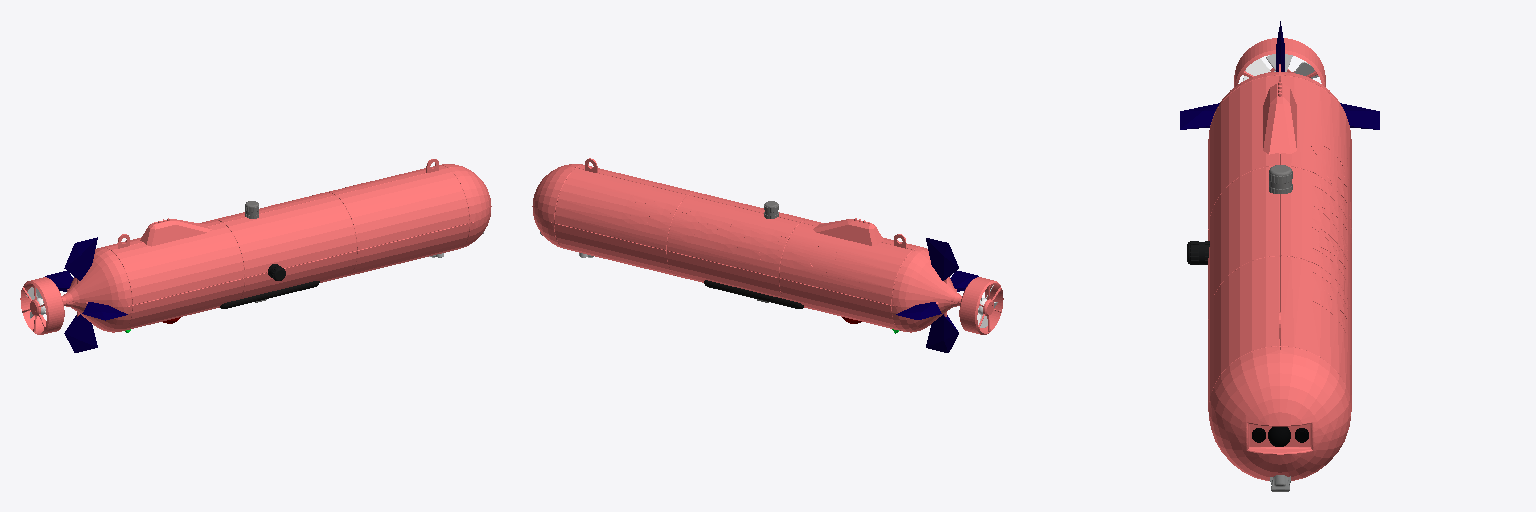
URDF robot description (remaro):
<?xml version="1.0"?>
<!-- created with Phobos 1.0.1 "Capricious Choutengan" -->
<robot name="remaro">
    <mujoco>
        <compiler meshdir="[local-path]/mujoco_ws/src/remaro_package/model/remaro/meshes" strippath="false" balanceinertia="true" discardvisual="true"/>
    </mujoco>
    <link name="link_base">
        <inertial>
            <origin xyz="0 0 0" rpy="0 0 0"/>
            <mass value="0.961"/>
            <inertia ixx="0.02757" ixy="0" ixz="0" iyy="0.57467" iyz="0" izz="0.57385"/>
        </inertial>
        <visual name="base">
            <origin xyz="0 0 0" rpy="0 0 0"/>
            <geometry>
                <mesh filename="package://remaro_package/meshes/stl/base.stl" scale="1.0 1.0 1.0"/>
            </geometry>
            <material name="body_led1"/>
        </visual>
        <collision name="base">
            <origin xyz="-0.00055 1e-05 -5e-05" rpy="0 0 0"/>
            <geometry>
                <mesh filename="base.000.stl" scale="1.0 1.0 1.0"/>
            </geometry>
        </collision>
    </link>
    <link name="link_cam_bottom">
        <inertial>
            <origin xyz="0 0 0" rpy="0 0 0"/>
            <mass value="0.961"/>
            <inertia ixx="0.00059" ixy="0" ixz="0" iyy="0.00059" iyz="0" izz="0.00068"/>
        </inertial>
        <visual name="cam_bottom">
            <origin xyz="0 0 0" rpy="0 0 0"/>
            <geometry>
                <mesh filename="package://remaro_package/meshes/stl/cam_bottom.stl" scale="1.0 1.0 1.0"/>
            </geometry>
            <material name="camera_accent"/>
        </visual>
        <collision name="cam_bottom">
            <origin xyz="0 0 -0.0007" rpy="0 0 0"/>
            <geometry>
                <mesh filename="cam_bottom.000.stl" scale="1.0 1.0 1.0"/>
            </geometry>
        </collision>
    </link>
    <link name="link_cam_front">
        <inertial>
            <origin xyz="0 0 0" rpy="0 0 0"/>
            <mass value="0.961"/>
            <inertia ixx="0.00068" ixy="0" ixz="0" iyy="0.00059" iyz="0" izz="0.00059"/>
        </inertial>
        <visual name="cam_front">
            <origin xyz="0 0 0" rpy="0 0 0"/>
            <geometry>
                <mesh filename="package://remaro_package/meshes/stl/cam_front.stl" scale="1.0 1.0 1.0"/>
            </geometry>
            <material name="camera_base"/>
        </visual>
        <collision name="cam_front">
            <origin xyz="0.00064 0 0" rpy="0 0 0"/>
            <geometry>
                <mesh filename="cam_front.000.stl" scale="1.0 1.0 1.0"/>
            </geometry>
        </collision>
    </link>
    <link name="link_dvl">
        <inertial>
            <origin xyz="0 0 0" rpy="0 0 0"/>
            <mass value="0.961"/>
            <inertia ixx="0.00127" ixy="0" ixz="0" iyy="0.00127" iyz="0" izz="0.00205"/>
        </inertial>
        <visual name="dvl">
            <origin xyz="0 0 0" rpy="0 0 0"/>
            <geometry>
                <mesh filename="package://remaro_package/meshes/stl/dvl.stl" scale="1.0 1.0 1.0"/>
            </geometry>
            <material name="dvl_accent"/>
        </visual>
        <collision name="dvl">
            <origin xyz="2e-05 0 -0.00103" rpy="0 0 0"/>
            <geometry>
                <mesh filename="dvl.000.stl" scale="1.0 1.0 1.0"/>
            </geometry>
        </collision>
    </link>
    <link name="link_fin_bar">
        <inertial>
            <origin xyz="0 0 0" rpy="0 0 0"/>
            <mass value="0.961"/>
            <inertia ixx="2e-05" ixy="0" ixz="0" iyy="2e-05" iyz="0" izz="0.00184"/>
        </inertial>
        <visual name="fin_bar">
            <origin xyz="0 0 0" rpy="0 0 0"/>
            <geometry>
                <mesh filename="package://remaro_package/meshes/stl/fin_bar.stl" scale="1.0 1.0 1.0"/>
            </geometry>
            <material name="body_bottom"/>
        </visual>
    </link>
    <link name="link_fin_pair_h">
        <inertial>
            <origin xyz="0 0 0" rpy="0 0 0"/>
            <mass value="0.961"/>
            <inertia ixx="0.69678" ixy="0" ixz="0" iyy="0.02607" iyz="0" izz="0.72155"/>
        </inertial>
        <visual name="fin_pair_h">
            <origin xyz="0 0 0" rpy="0 0 0"/>
            <geometry>
                <mesh filename="package://remaro_package/meshes/stl/fin_pair_h.stl" scale="1.0 1.0 1.0"/>
            </geometry>
            <material name="fin"/>
        </visual>
        <collision name="fin_pair_h">
            <origin xyz="-0.00073 0 0" rpy="0 0 0"/>
            <geometry>
                <mesh filename="fin_pair_h.000.stl" scale="1.0 1.0 1.0"/>
            </geometry>
        </collision>
    </link>
    <link name="link_fin_pair_v">
        <inertial>
            <origin xyz="0 0 0" rpy="0 0 0"/>
            <mass value="0.961"/>
            <inertia ixx="0.86184" ixy="0" ixz="0" iyy="0.89248" iyz="0" izz="0.03224"/>
        </inertial>
        <visual name="fin_pair_v">
            <origin xyz="0 0 0" rpy="-1.5708 0 0"/>
            <geometry>
                <mesh filename="package://remaro_package/meshes/stl/fin_pair_v.stl" scale="1.0 1.0 1.0"/>
            </geometry>
            <material name="fin"/>
        </visual>
        <collision name="fin_pair_v">
            <origin xyz="-0.00077 0 0" rpy="-1.5708 0 0"/>
            <geometry>
                <mesh filename="fin_pair_v.000.stl" scale="1.0 1.0 1.0"/>
            </geometry>
        </collision>
    </link>
    <link name="link_fls">
        <inertial>
            <origin xyz="0 0 0" rpy="0 0 0"/>
            <mass value="0.961"/>
            <inertia ixx="0.00049" ixy="0" ixz="0" iyy="0.00048" iyz="0" izz="0.00051"/>
        </inertial>
        <visual name="fls">
            <origin xyz="0 0 0" rpy="0 0 0"/>
            <geometry>
                <mesh filename="package://remaro_package/meshes/stl/fls.stl" scale="1.0 1.0 1.0"/>
            </geometry>
            <material name="fls_accent"/>
        </visual>
        <collision name="fls">
            <origin xyz="6e-05 0 -0.00011" rpy="0 0 0"/>
            <geometry>
                <mesh filename="fls.000.stl" scale="1.0 1.0 1.0"/>
            </geometry>
        </collision>
    </link>
    <link name="link_laser">
        <inertial>
            <origin xyz="0 0 0" rpy="0 0 0"/>
            <mass value="0.961"/>
            <inertia ixx="0.00108" ixy="0" ixz="0" iyy="0.00022" iyz="0" izz="0.00105"/>
        </inertial>
        <visual name="laser">
            <origin xyz="0 0 0" rpy="0 0 0"/>
            <geometry>
                <mesh filename="package://remaro_package/meshes/stl/laser.stl" scale="1.0 1.0 1.0"/>
            </geometry>
            <material name="laser_accent"/>
        </visual>
        <collision name="laser">
            <origin xyz="0.00016 -6e-05 -0.00021" rpy="0 0 0"/>
            <geometry>
                <mesh filename="laser.000.stl" scale="1.0 1.0 1.0"/>
            </geometry>
        </collision>
    </link>
    <link name="link_light_pair_bottom">
        <inertial>
            <origin xyz="0 0 0" rpy="0 0 0"/>
            <mass value="0.961"/>
            <inertia ixx="0.00408" ixy="0" ixz="0" iyy="0.00026" iyz="0" izz="0.00404"/>
        </inertial>
        <visual name="light_pair_bottom">
            <origin xyz="0 0 0" rpy="0 0 0"/>
            <geometry>
                <mesh filename="package://remaro_package/meshes/stl/light_pair_bottom.stl" scale="1.0 1.0 1.0"/>
            </geometry>
            <material name="lights_accent"/>
        </visual>
        <collision name="light_pair_bottom">
            <origin xyz="0 0 -0.00014" rpy="0 0 0"/>
            <geometry>
                <mesh filename="light_pair_bottom.000.stl" scale="1.0 1.0 1.0"/>
            </geometry>
        </collision>
    </link>
    <link name="link_light_pair_front">
        <inertial>
            <origin xyz="0 0 0" rpy="0 0 0"/>
            <mass value="0.961"/>
            <inertia ixx="0.00404" ixy="0" ixz="0" iyy="0.00026" iyz="0" izz="0.00408"/>
        </inertial>
        <visual name="light_pair_front">
            <origin xyz="0 0 0" rpy="0 0 0"/>
            <geometry>
                <mesh filename="package://remaro_package/meshes/stl/light_pair_front.stl" scale="1.0 1.0 1.0"/>
            </geometry>
            <material name="lights_base"/>
        </visual>
        <collision name="light_pair_front">
            <origin xyz="0.00014 0 0" rpy="0 0 0"/>
            <geometry>
                <mesh filename="light_pair_front.000.stl" scale="1.0 1.0 1.0"/>
            </geometry>
        </collision>
    </link>
    <link name="link_mbes">
        <inertial>
            <origin xyz="0 0 0" rpy="0 0 0"/>
            <mass value="0.961"/>
            <inertia ixx="0.00121" ixy="0" ixz="0" iyy="0.00547" iyz="0" izz="0.00641"/>
        </inertial>
        <visual name="mbes">
            <origin xyz="0 0 0" rpy="0 0 0"/>
            <geometry>
                <mesh filename="package://remaro_package/meshes/stl/mbes.stl" scale="1.0 1.0 1.0"/>
            </geometry>
            <material name="mbes_accent"/>
        </visual>
        <collision name="mbes">
            <origin xyz="0.00073 0 0.00062" rpy="0 0 0"/>
            <geometry>
                <mesh filename="mbes.000.stl" scale="1.0 1.0 1.0"/>
            </geometry>
        </collision>
    </link>
    <link name="link_prop">
        <inertial>
            <origin xyz="0 0 0" rpy="0 0 0"/>
            <mass value="0.961"/>
            <inertia ixx="0.0036" ixy="0" ixz="0" iyy="0.0021" iyz="0" izz="0.0021"/>
        </inertial>
        <visual name="prop">
            <origin xyz="0 0 0" rpy="0 0 -1.5708"/>
            <geometry>
                <mesh filename="package://remaro_package/meshes/stl/prop.stl" scale="1.0 1.0 1.0"/>
            </geometry>
            <material name="prop"/>
        </visual>
        <collision name="prop">
            <origin xyz="0 -0.00054 0" rpy="0 0 -1.5708"/>
            <geometry>
                <mesh filename="prop.000.stl" scale="1.0 1.0 1.0"/>
            </geometry>
        </collision>
    </link>
    <link name="link_scanner_side">
        <inertial>
            <origin xyz="0 0 0" rpy="0 0 0"/>
            <mass value="0.961"/>
            <inertia ixx="0.00134" ixy="0" ixz="0" iyy="0.0008" iyz="0" izz="0.00134"/>
        </inertial>
        <visual name="scanner_side">
            <origin xyz="0 0 0" rpy="0 0 0"/>
            <geometry>
                <mesh filename="package://remaro_package/meshes/stl/scanner_side.stl" scale="1.0 1.0 1.0"/>
            </geometry>
            <material name="scanner_base"/>
        </visual>
        <collision name="scanner_side">
            <origin xyz="0 -0.00028 0" rpy="0 0 0"/>
            <geometry>
                <mesh filename="scanner_side.000.stl" scale="1.0 1.0 1.0"/>
            </geometry>
        </collision>
    </link>
    <link name="link_scanner_top">
        <inertial>
            <origin xyz="0 0 0" rpy="0 0 0"/>
            <mass value="0.961"/>
            <inertia ixx="0.00134" ixy="0" ixz="0" iyy="0.00134" iyz="0" izz="0.0008"/>
        </inertial>
        <visual name="scanner_top">
            <origin xyz="0 0 0" rpy="0 0 0"/>
            <geometry>
                <mesh filename="package://remaro_package/meshes/stl/scanner_top.stl" scale="1.0 1.0 1.0"/>
            </geometry>
            <material name="scanner_accent"/>
        </visual>
        <collision name="scanner_top">
            <origin xyz="0 0 0.00028" rpy="0 0 0"/>
            <geometry>
                <mesh filename="scanner_top.000.stl" scale="1.0 1.0 1.0"/>
            </geometry>
        </collision>
    </link>
    <link name="link_sss_left">
        <inertial>
            <origin xyz="0 0 0" rpy="0 0 0"/>
            <mass value="0.961"/>
            <inertia ixx="0.00041" ixy="0" ixz="0" iyy="0.03333" iyz="0" izz="0.03333"/>
        </inertial>
        <visual name="sss_left">
            <origin xyz="0 0 0" rpy="0 0 0"/>
            <geometry>
                <mesh filename="package://remaro_package/meshes/stl/sss_left.stl" scale="1.0 1.0 1.0"/>
            </geometry>
            <material name="sss"/>
        </visual>
        <collision name="sss_left">
            <origin xyz="0 0.00017 -0.00012" rpy="0 0 0"/>
            <geometry>
                <mesh filename="sss_left.000.stl" scale="1.0 1.0 1.0"/>
            </geometry>
        </collision>
    </link>
    <link name="link_sss_right">
        <inertial>
            <origin xyz="0 0 0" rpy="0 0 0"/>
            <mass value="0.961"/>
            <inertia ixx="0.00041" ixy="0" ixz="0" iyy="0.03333" iyz="0" izz="0.03333"/>
        </inertial>
        <visual name="sss_right">
            <origin xyz="0 0 0" rpy="0 0 0"/>
            <geometry>
                <mesh filename="package://remaro_package/meshes/stl/sss_right.stl" scale="1.0 1.0 1.0"/>
            </geometry>
            <material name="sss"/>
        </visual>
        <collision name="sss_right">
            <origin xyz="0 7e-05 7e-05" rpy="0 0 0"/>
            <geometry>
                <mesh filename="sss_right.000.stl" scale="1.0 1.0 1.0"/>
            </geometry>
        </collision>
    </link>
    <joint name="joint_cam_bottom" type="fixed">
        <origin xyz="1.11613 0 -0.27517" rpy="0 0 0"/>
        <parent link="link_base"/>
        <child link="link_cam_bottom"/>
    </joint>
    <joint name="joint_cam_front" type="fixed">
        <origin xyz="1.42246 -0.00323 -0.0191" rpy="0 0 0"/>
        <parent link="link_base"/>
        <child link="link_cam_front"/>
    </joint>
    <joint name="joint_dvl" type="fixed">
        <origin xyz="-0.63435 0 -0.27426" rpy="0 0 0"/>
        <parent link="link_base"/>
        <child link="link_dvl"/>
    </joint>
    <joint name="joint_fin_bar" type="fixed">
        <origin xyz="-1.23781 -0.00191 -0.01932" rpy="0 0 0"/>
        <parent link="link_base"/>
        <child link="link_fin_bar"/>
    </joint>
    <joint name="joint_fin_pair_h" type="revolute">
        <origin xyz="0.00147 0 0" rpy="0 0 0"/>
        <parent link="link_fin_bar"/>
        <child link="link_fin_pair_h"/>
        <axis xyz="0 1.0 0"/>
        <limit lower="-1.08" upper="1.08" effort="0" velocity="0"/>
    </joint>
    <joint name="joint_fin_pair_v" type="revolute">
        <origin xyz="0.0015 0.00191 0" rpy="1.5708 0 0"/>
        <parent link="link_fin_bar"/>
        <child link="link_fin_pair_v"/>
        <axis xyz="0 1.0 0"/>
        <limit lower="-1.08" upper="1.08" effort="0" velocity="0"/>
    </joint>
    <joint name="joint_fls" type="fixed">
        <origin xyz="1.39813 0 -0.20309" rpy="0 0 0"/>
        <parent link="link_base"/>
        <child link="link_fls"/>
    </joint>
    <joint name="joint_laser" type="fixed">
        <origin xyz="-0.9365 6e-05 -0.27134" rpy="0 0 0"/>
        <parent link="link_base"/>
        <child link="link_laser"/>
    </joint>
    <joint name="joint_light_pair_bottom" type="fixed">
        <origin xyz="1.11609 0 -0.25359" rpy="0 0 0"/>
        <parent link="link_base"/>
        <child link="link_light_pair_bottom"/>
    </joint>
    <joint name="joint_light_pair_front" type="fixed">
        <origin xyz="1.40611 0 -0.01758" rpy="0 0 0"/>
        <parent link="link_base"/>
        <child link="link_light_pair_front"/>
    </joint>
    <joint name="joint_mbes" type="fixed">
        <origin xyz="-0.00147 0 -0.26642" rpy="0 0 0"/>
        <parent link="link_base"/>
        <child link="link_mbes"/>
    </joint>
    <joint name="joint_prop" type="continuous">
        <origin xyz="-1.48074 0 -0.01932" rpy="0 0 1.5708"/>
        <parent link="link_base"/>
        <child link="link_prop"/>
        <axis xyz="0 1.0 0"/>
        <limit effort="2.4" velocity="1.02"/>
    </joint>
    <joint name="joint_scanner_side" type="fixed">
        <origin xyz="-0.08613 -0.27004 -0.01727" rpy="0 0 0"/>
        <parent link="link_base"/>
        <child link="link_scanner_side"/>
    </joint>
    <joint name="joint_scanner_top" type="fixed">
        <origin xyz="-0.08613 0 0.25277" rpy="0 0 0"/>
        <parent link="link_base"/>
        <child link="link_scanner_top"/>
    </joint>
    <joint name="joint_sss_left" type="fixed">
        <origin xyz="-0.07144 0.17093 -0.19748" rpy="0 0 0"/>
        <parent link="link_base"/>
        <child link="link_sss_left"/>
    </joint>
    <joint name="joint_sss_right" type="fixed">
        <origin xyz="-0.07144 -0.17093 -0.19748" rpy="0 0 0"/>
        <parent link="link_base"/>
        <child link="link_sss_right"/>
    </joint>
    <material name="body_bottom">
        <color rgba="0.99608 0.35294 0.12549 1.0"/>
    </material>
    <material name="body_led1">
        <color rgba="1.0 0.50196 0.50196 1.0"/>
    </material>
    <material name="camera_accent">
        <color rgba="0.93726 0.94118 0.9451 1.0"/>
    </material>
    <material name="camera_base">
        <color rgba="0.05882 0.06274 0.06667 1.0"/>
    </material>
    <material name="dvl_accent">
        <color rgba="0.49804 0 0 1.0"/>
    </material>
    <material name="fin">
        <color rgba="0.05098 0 0.34902 1.0"/>
    </material>
    <material name="fls_accent">
        <color rgba="0.51372 0.51765 0.51765 1.0"/>
    </material>
    <material name="laser_accent">
        <color rgba="0 1.0 0.25098 1.0"/>
    </material>
    <material name="lights_accent">
        <color rgba="0.78824 0.79216 0.79608 1.0"/>
    </material>
    <material name="lights_base">
        <color rgba="0.04314 0.04706 0.05098 1.0"/>
    </material>
    <material name="mbes_accent">
        <color rgba="0.49804 0.49804 0.49804 1.0"/>
    </material>
    <material name="prop">
        <color rgba="0.95686 0.95686 0.95686 1.0"/>
    </material>
    <material name="scanner_accent">
        <color rgba="0.50196 0.49804 0.49412 1.0"/>
    </material>
    <material name="scanner_base">
        <color rgba="0.12549 0.12941 0.13333 1.0"/>
    </material>
    <material name="sss">
        <color rgba="0.12157 0.12157 0.12157 1.0"/>
    </material>
</robot>

--- Facts derived from the render (not from the file) ---
3 views of the same robot in one strip: view 1: azimuth 30°, elevation 25°; view 2: azimuth 150°, elevation 25°; view 3: azimuth 270°, elevation 25° (orthographic).
Model remaro with 17 links and 16 joints (2 revolute, 1 continuous, 13 fixed), rooted at link_base, posed all joints at 0.
Links seen in each view (by area): view 1: link_base, link_fin_pair_v, link_fin_pair_h, link_sss_right; view 2: link_base, link_fin_pair_v, link_fin_pair_h, link_sss_left; view 3: link_base, link_fin_pair_h, link_prop, link_scanner_top.
Link boxes in pixels (x1=…): link_base: x1=20, y1=159, x2=491, y2=334; link_fin_pair_v: x1=64, y1=237, x2=97, y2=352; link_fin_pair_h: x1=45, y1=271, x2=127, y2=320; link_sss_right: x1=220, y1=281, x2=319, y2=308; link_base: x1=532, y1=158, x2=1003, y2=334; link_fin_pair_v: x1=926, y1=238, x2=958, y2=352; link_fin_pair_h: x1=896, y1=271, x2=978, y2=319; link_sss_left: x1=704, y1=280, x2=803, y2=308; link_base: x1=1208, y1=38, x2=1351, y2=480; link_fin_pair_h: x1=1180, y1=103, x2=1379, y2=129; link_prop: x1=1243, y1=54, x2=1318, y2=80; link_scanner_top: x1=1269, y1=165, x2=1292, y2=193.
Size in the robot's own frame: 3 by 0.7006 by 0.71 metres.
Meshes: 17 distinct files referenced, 17 mesh visuals loaded (17 binary STL).